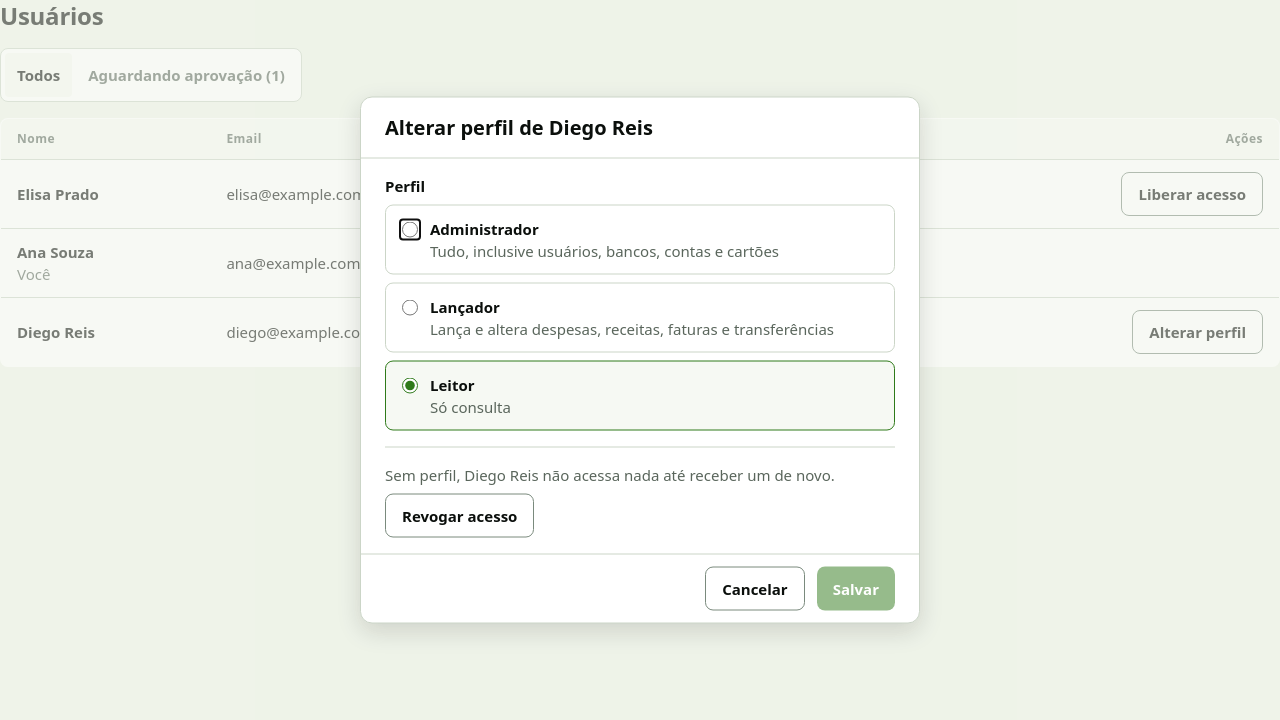
it: ProfileDialog › keeps the USER_NOT_FOUND alert after the reloaded list drops the user
This screenshot has width=1280, height=720.
Step 1. Click the button "Revogar acesso" → (460, 516), box [385,494,534,538]
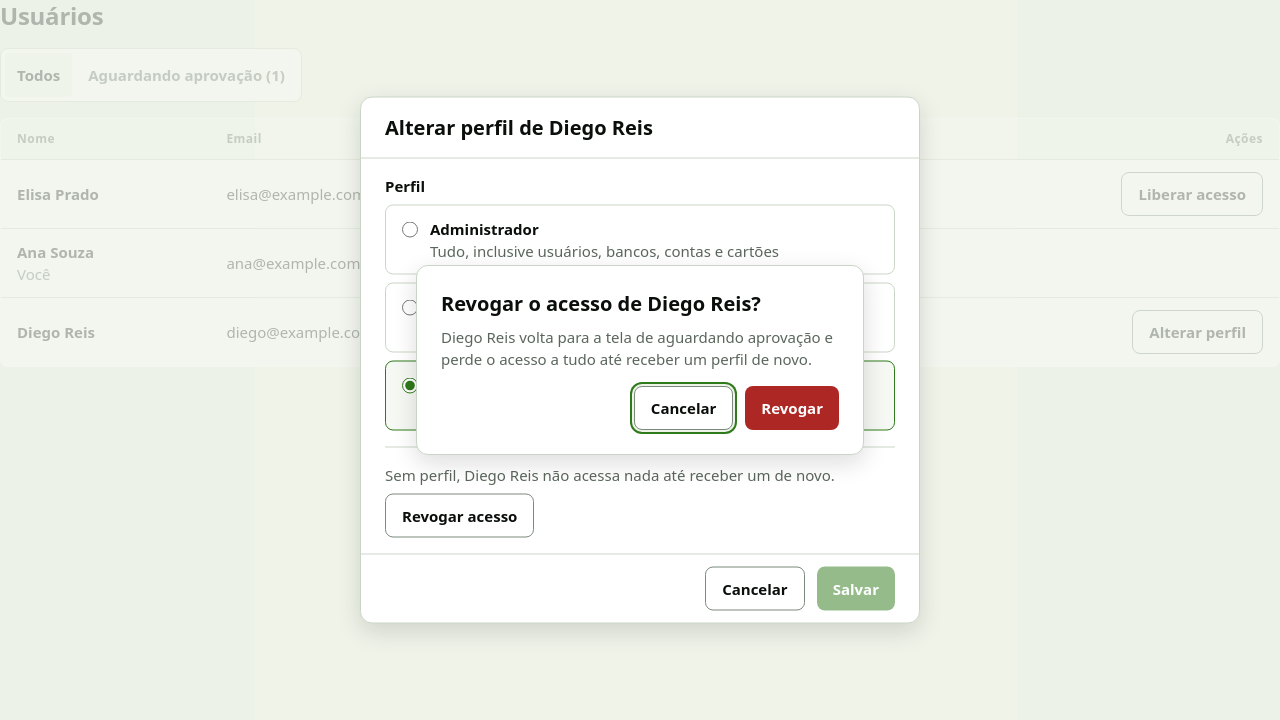
Step 2. Click the button "Revogar" → (792, 408), box [745,386,839,430]
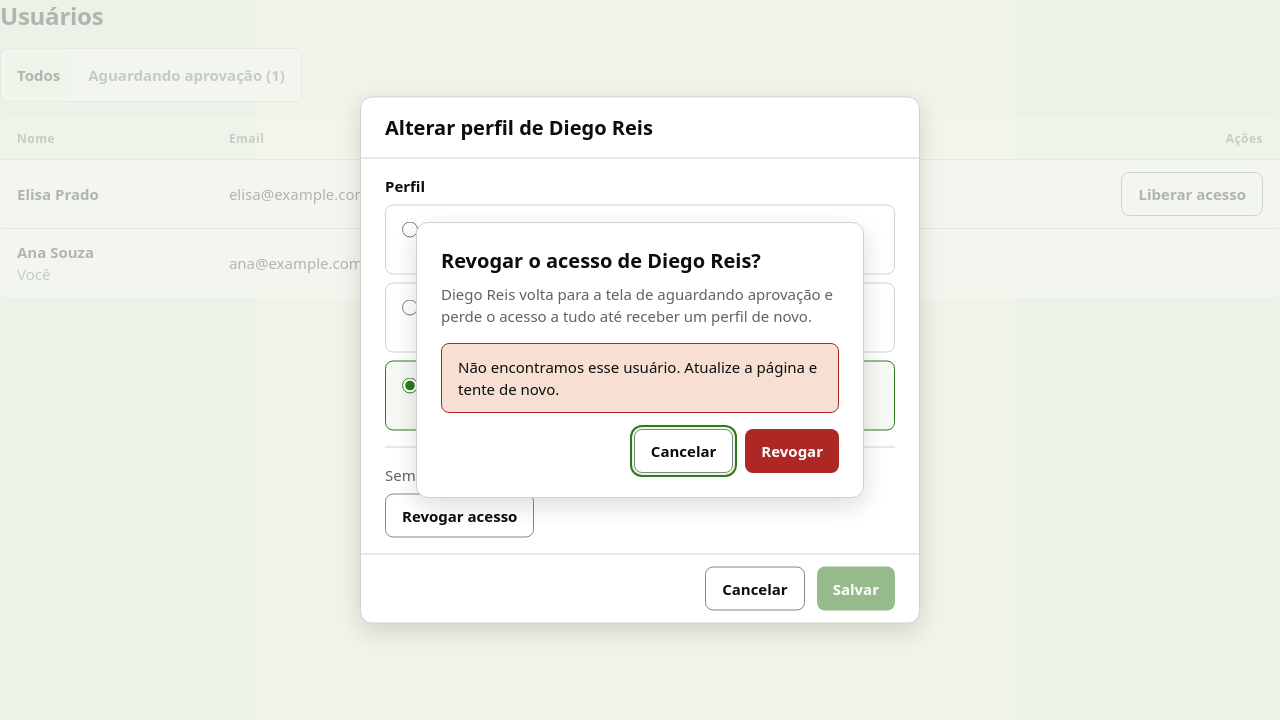
Expected: the message reads "Não encontramos esse usuário. Atualize a página e tente de novo.", [458,357,817,399]
